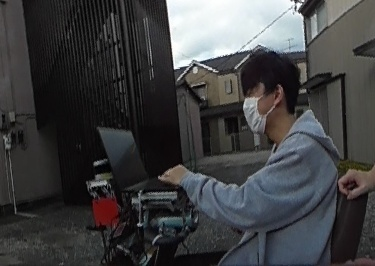person: (210, 47, 340, 266)
